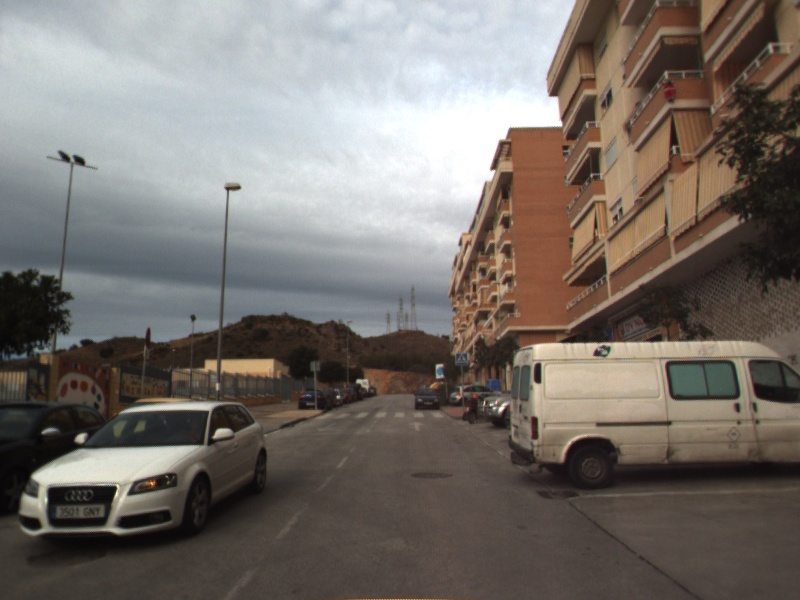STRAIGHT: (406, 419, 428, 433)
